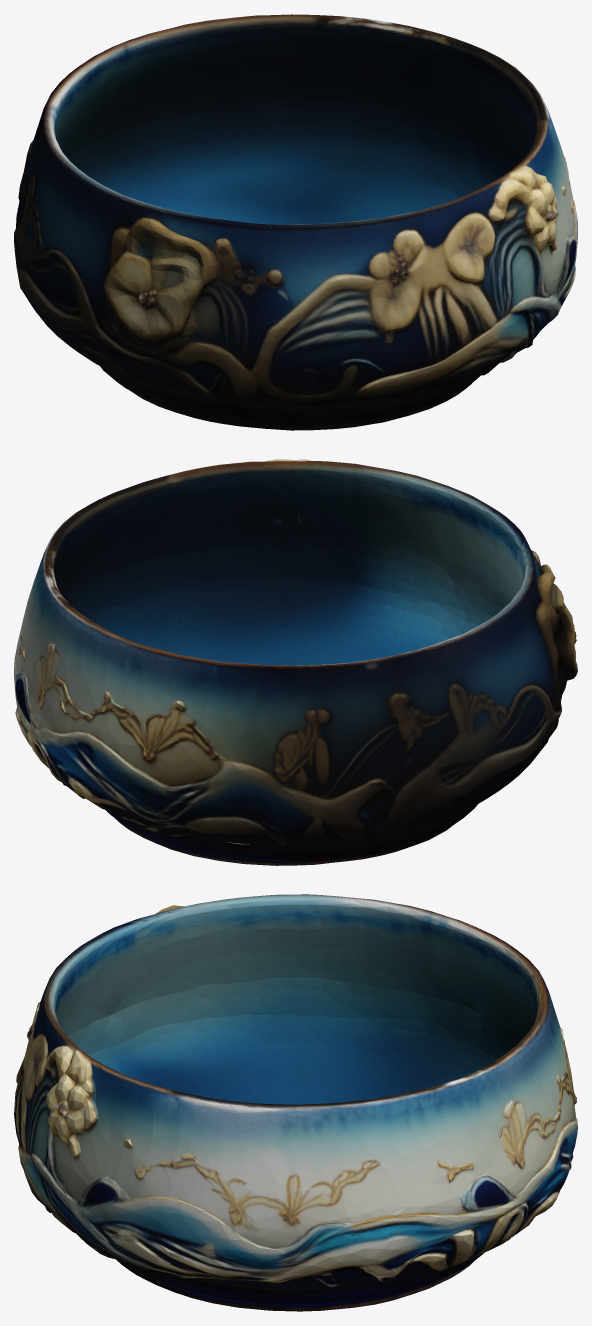
File: ceramic-paint-brush-holder-japanese.jpeg.glb
The picture shows the model from 3 angles, top to bottom: view 1: azimuth 30°, elevation 25°; view 2: azimuth 150°, elevation 25°; view 3: azimuth 270°, elevation 25°; orthographic projection. The views are drawn at different scales.
Parts seen in each view (by area): view 1: world; view 2: world; view 3: world.
Part boxes in pixels (bbox=[...]): world: bbox=[14, 14, 577, 430]; world: bbox=[14, 459, 577, 865]; world: bbox=[14, 894, 577, 1311].
Size of the model in its own units: 0.9941 by 0.4503 by 0.9972.
1 material, 1 textured.
